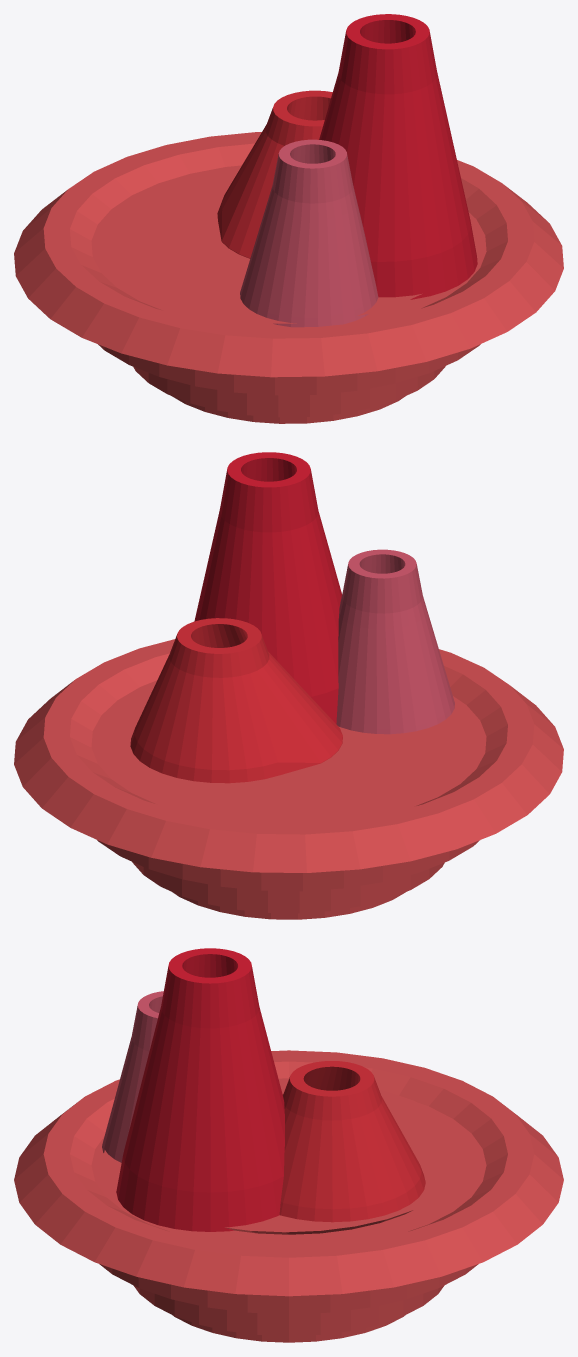
File: red 1.fbx
The picture shows the model from 3 angles, top to bottom: view 1: azimuth 30°, elevation 25°; view 2: azimuth 150°, elevation 25°; view 3: azimuth 270°, elevation 25°; orthographic projection.
Visible parts, largest first — view 1: Cone, Cylinder, Cylinder.001, Cylinder.002; view 2: Cone, Cylinder.002, Cylinder, Cylinder.001; view 3: Cone, Cylinder, Cylinder.002, Cylinder.001.
Boxes of the visible parts, bbox=[...] form: Cone: bbox=[14, 132, 563, 423]; Cylinder: bbox=[319, 14, 477, 299]; Cylinder.001: bbox=[240, 139, 378, 327]; Cylinder.002: bbox=[217, 90, 332, 258]; Cone: bbox=[14, 639, 563, 919]; Cylinder.002: bbox=[130, 618, 342, 783]; Cylinder: bbox=[194, 452, 342, 723]; Cylinder.001: bbox=[336, 549, 454, 734]; Cone: bbox=[14, 1050, 563, 1342]; Cylinder: bbox=[116, 948, 284, 1231]; Cylinder.002: bbox=[279, 1061, 425, 1222]; Cylinder.001: bbox=[102, 991, 163, 1162].
Size of the model in its own units: 890 by 712 by 890.
